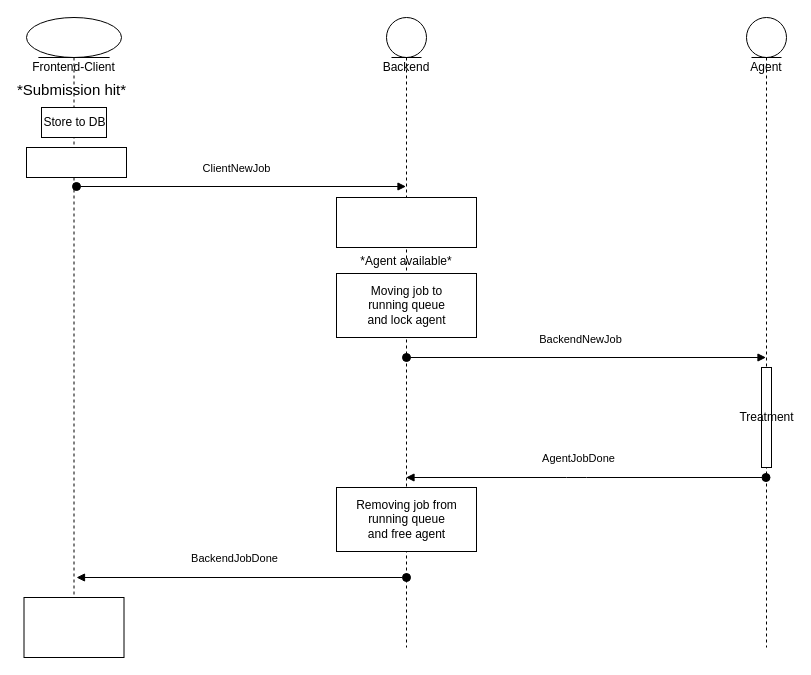
Image size: 811x675. Some labels were removed from this diagram. Each missing label, with the centre of its shape:
Adding job to waiting queue: the point at 406,222
Handle job done and display result to frontend: the point at 73,627
Job encapsulation: the point at 76,162
